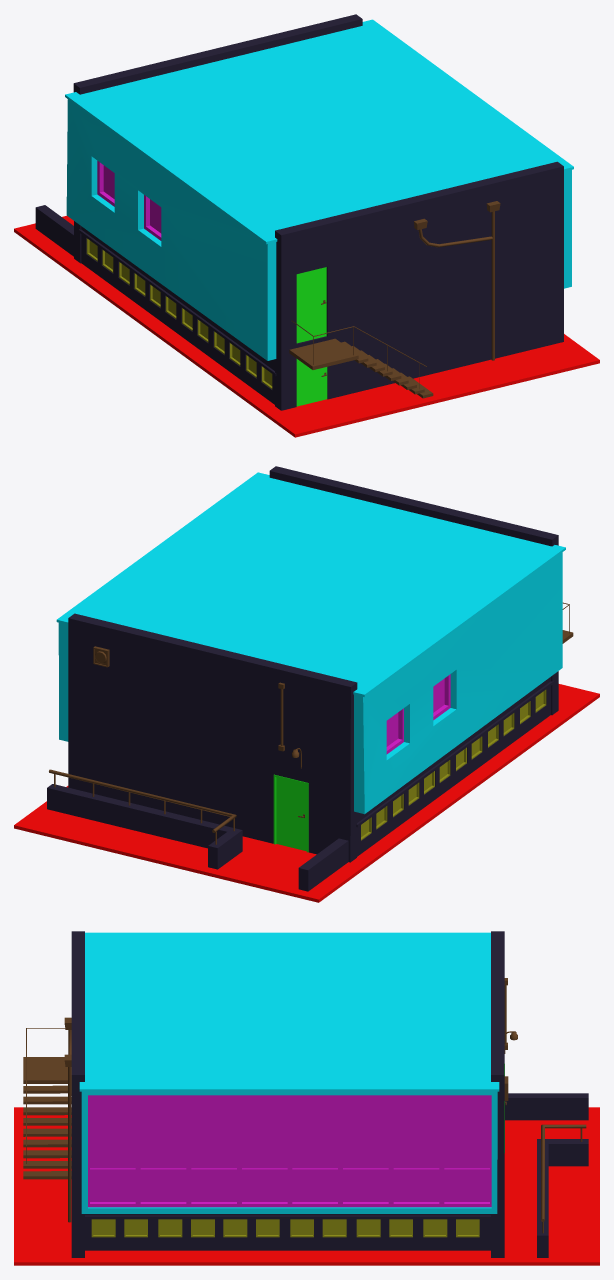
The model's file is urban_building.FBX.
3 views of the same model, one above another, from view 1: azimuth 30°, elevation 25°; view 2: azimuth 150°, elevation 25°; view 3: azimuth 270°, elevation 25° (orthographic). The views are drawn at different scales.
Visible parts, largest first — view 1: urban_building_wall_white_roof, urban_building_wall_brick, urban_building_base, urban_building_exterior_details, urban_building_doors, urban_building_ window_01, urban_building_ window_02; view 2: urban_building_wall_white_roof, urban_building_wall_brick, urban_building_base, urban_building_doors, urban_building_ window_01, urban_building_exterior_details, urban_building_ window_02; view 3: urban_building_wall_white_roof, urban_building_ window_02, urban_building_base, urban_building_wall_brick, urban_building_exterior_details, urban_building_ window_01.
Part boxes in pixels (<box>): urban_building_wall_white_roof: <box>65,19,573,360</box>; urban_building_wall_brick: <box>35,14,563,410</box>; urban_building_base: <box>14,216,599,437</box>; urban_building_exterior_details: <box>289,201,500,398</box>; urban_building_doors: <box>296,267,327,406</box>; urban_building_ window_01: <box>86,238,272,389</box>; urban_building_ window_02: <box>97,161,161,240</box>; urban_building_wall_white_roof: <box>56,472,565,814</box>; urban_building_wall_brick: <box>47,466,558,891</box>; urban_building_base: <box>14,684,599,902</box>; urban_building_doors: <box>273,774,308,852</box>; urban_building_ window_01: <box>361,689,546,840</box>; urban_building_exterior_details: <box>49,602,573,844</box>; urban_building_ window_02: <box>386,674,450,754</box>; urban_building_wall_white_roof: <box>79,932,499,1213</box>; urban_building_ window_02: <box>88,1095,491,1207</box>; urban_building_base: <box>14,1107,599,1265</box>; urban_building_wall_brick: <box>71,931,588,1257</box>; urban_building_exterior_details: <box>23,978,586,1233</box>; urban_building_ window_01: <box>91,1219,479,1237</box>.
Bounding box in the file's own units: 8.18 × 4.5 × 12.83.
